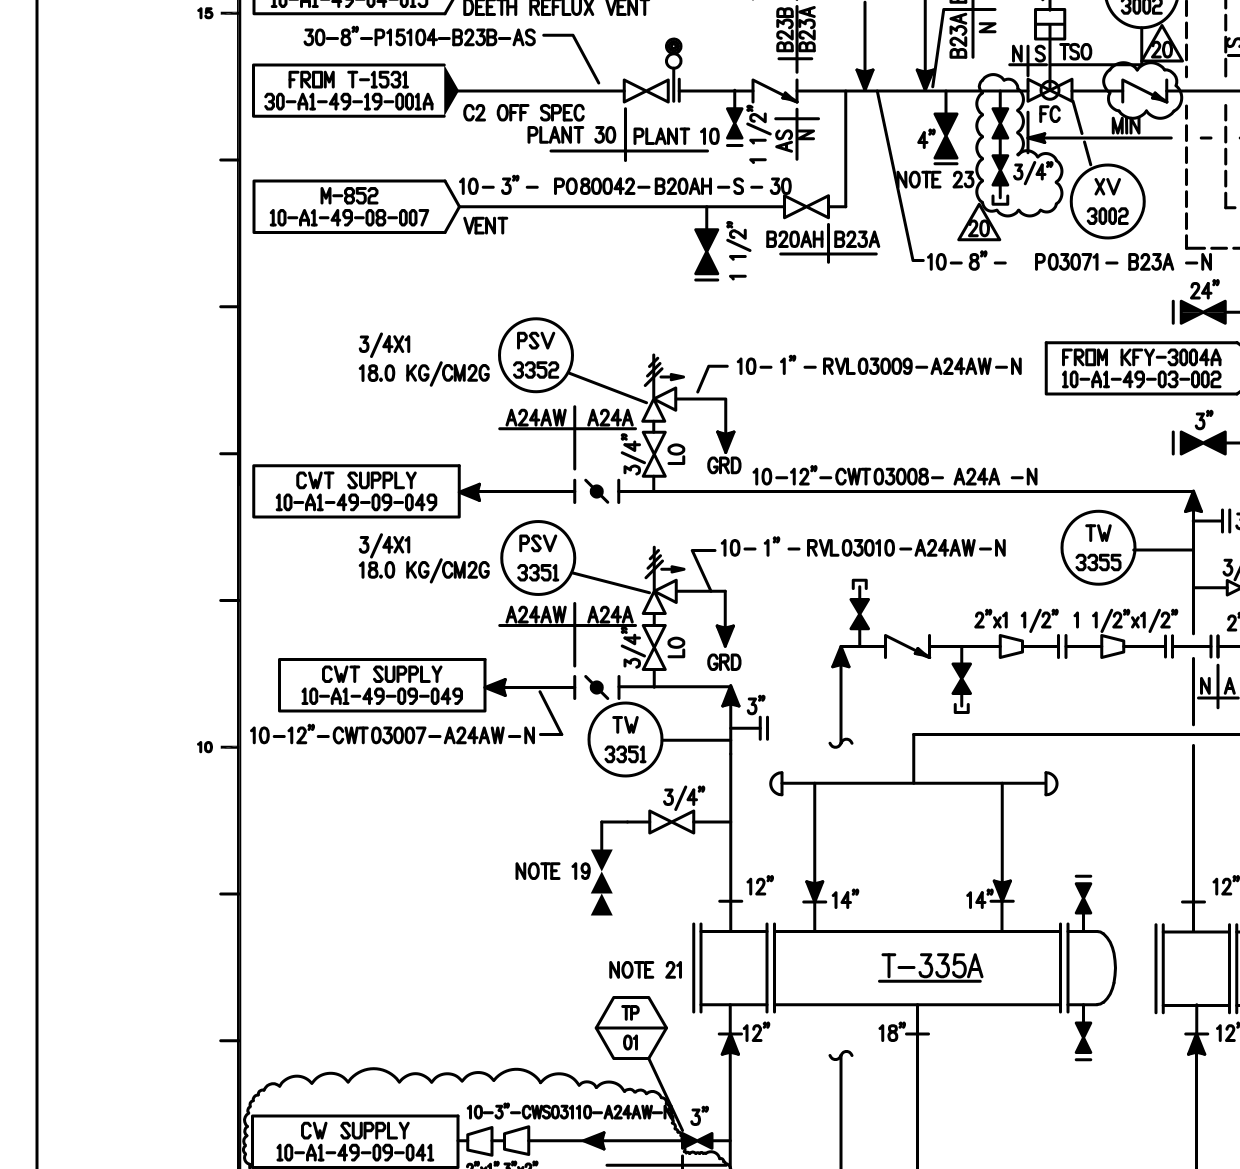Butterfly Valve: (567, 474, 628, 506)
Check Valve: (742, 73, 809, 109), (876, 630, 942, 665)
Instrument Tag: (1057, 506, 1144, 590), (582, 699, 669, 782), (494, 313, 581, 396), (495, 516, 582, 599), (1066, 160, 1153, 243)
Line Number: (455, 171, 796, 198), (733, 353, 1032, 382), (715, 531, 1014, 560), (246, 722, 545, 751), (921, 249, 1221, 278), (747, 459, 1046, 488), (463, 1101, 669, 1120)
Reducer: (1093, 631, 1133, 665), (499, 1124, 539, 1158), (994, 630, 1034, 664), (461, 1125, 501, 1159)
Valve: (639, 426, 670, 481), (640, 619, 671, 673), (619, 75, 673, 105), (644, 808, 697, 838)
